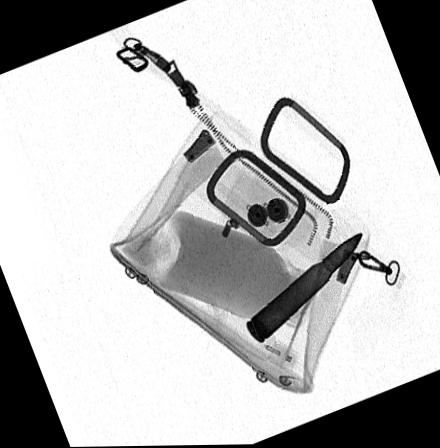Bullet: (245, 231, 363, 344)
